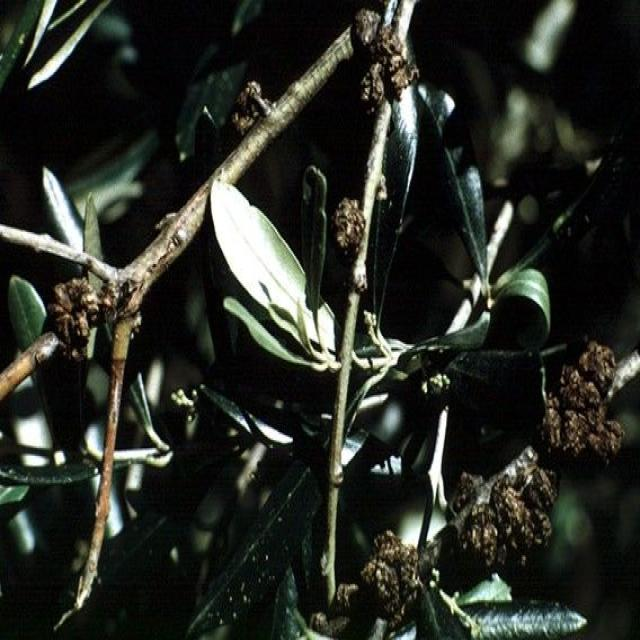Tuberculosis: (457, 456, 555, 573), (540, 341, 624, 462), (338, 531, 425, 629), (353, 10, 417, 112), (48, 277, 112, 358), (230, 80, 270, 134), (332, 198, 363, 258), (456, 475, 479, 506)
